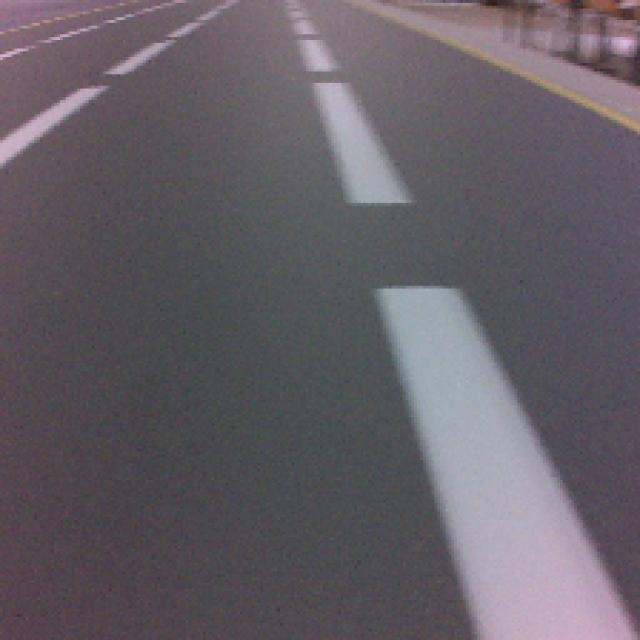Road: (0, 348, 483, 638)
